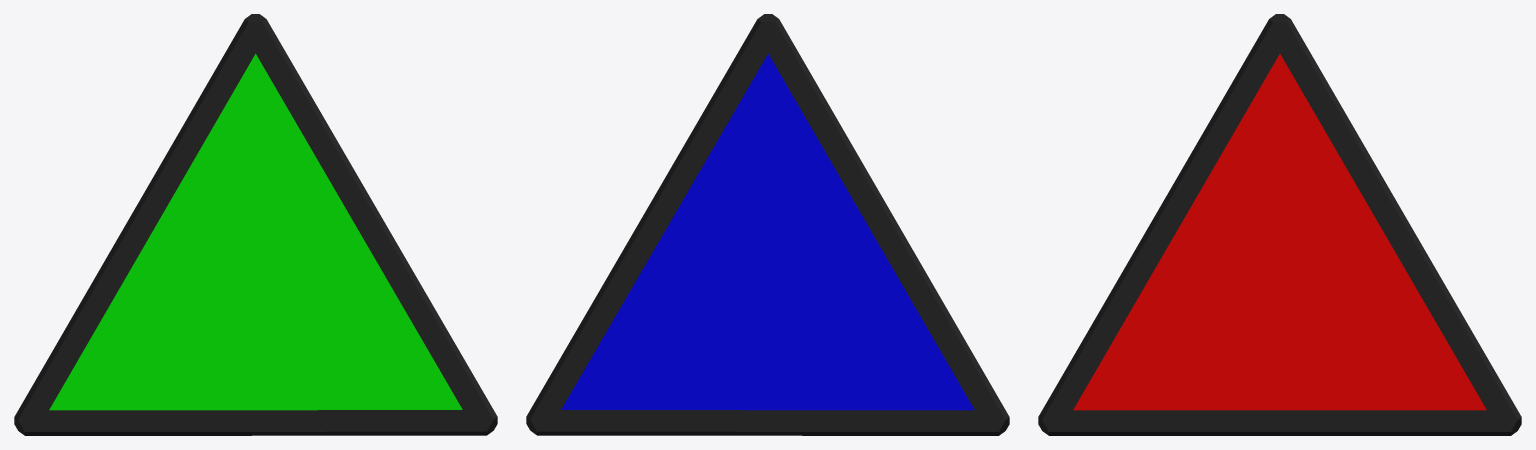
3 views of the same model, side by side, from view 1: azimuth 30°, elevation 25°; view 2: azimuth 150°, elevation 25°; view 3: azimuth 270°, elevation 25° (orthographic).
Visible parts, largest first — view 1: Cube; view 2: Cube; view 3: Cube.
Boxes of the visible parts, x1,y1,x2,y2 form: Cube: [14, 14, 497, 435]; Cube: [526, 14, 1009, 435]; Cube: [1038, 14, 1521, 435].
Size of the model in its own units: 1.07 by 1.23 by 1.
